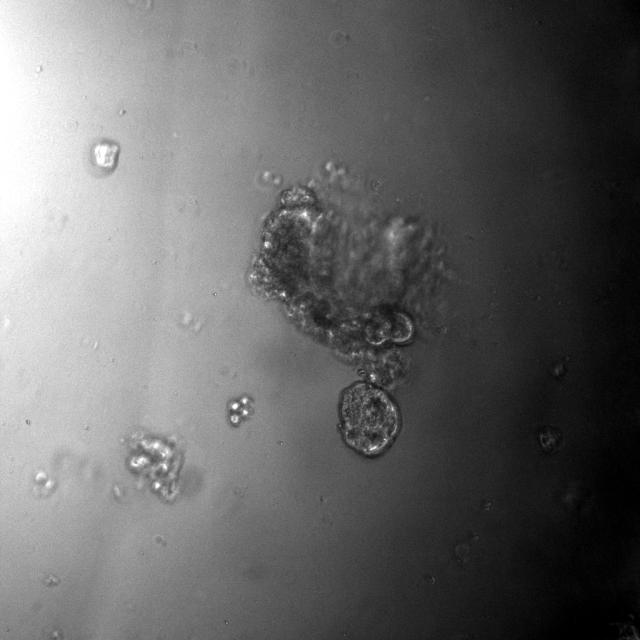organoid: (247, 162, 452, 458), (126, 433, 183, 502), (87, 138, 120, 178), (227, 395, 253, 426), (536, 425, 563, 454), (32, 469, 58, 498), (550, 359, 568, 379)
